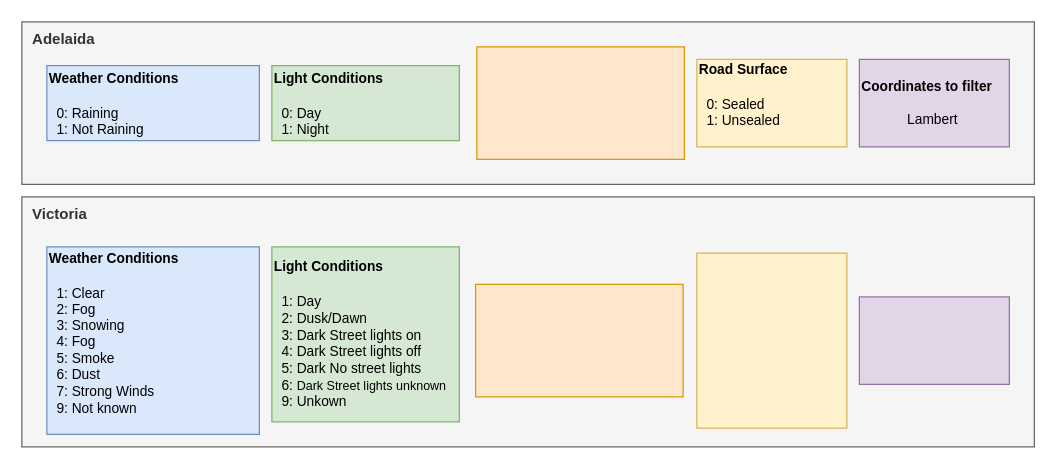
Some shapes in this 1056 by 469 pixel diagram are drawn without their labels. The centre of each missing label's shape, as x and y in pixels:
"Coordinates to filter Australian Map Grid" goes at [933,340].
"Road Surface 1: Dry 2: Wet 3: Muddy 4: Snowy 5: Icy 9: Unknow" goes at [771,340].
"Severity 0: Not Injured 1: Other Injury 1: Serious Injury 1: Fatality" goes at [578,340].
"Severity 0: Treated at Hospital 0: By Private 1: Admitted to Hospital 1: Fatal" goes at [580,102].
